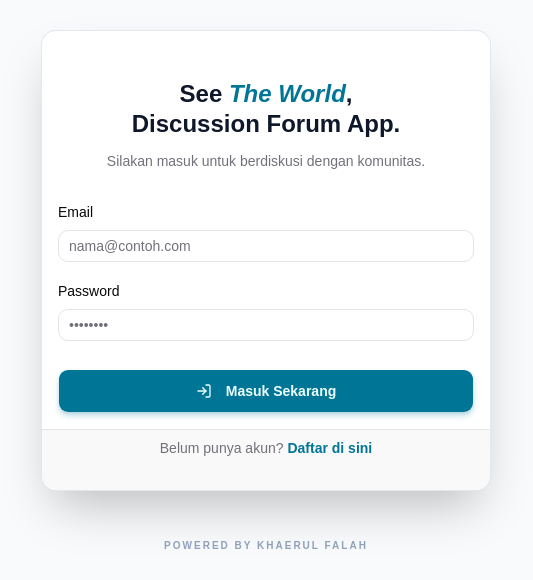
it: Login spec › should show validation error when email is empty
The image size is (533, 580).
In the password field with placeholder "••••••••": (266, 325) left=58, top=309, right=474, bottom=341, type "123123"
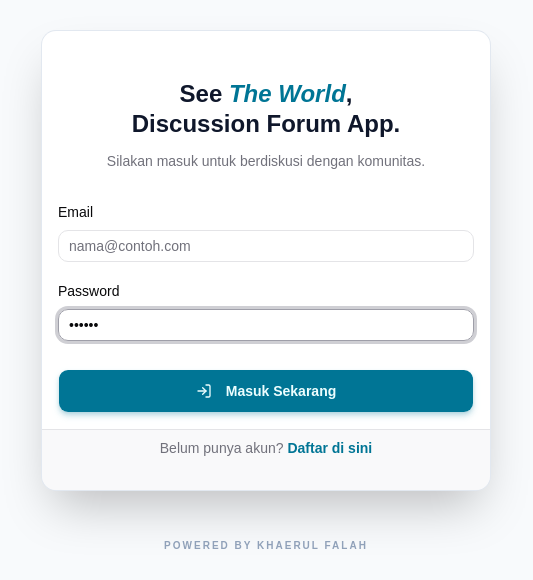
Click the button "Masuk Sekarang": (266, 391) left=58, top=369, right=474, bottom=413
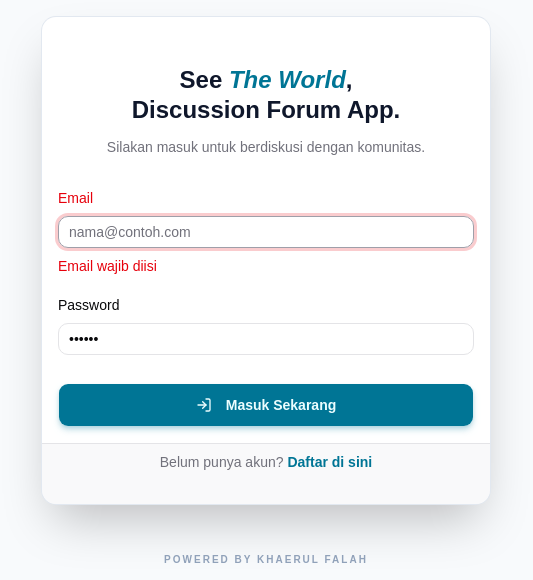
Expected: the text "Email wajib diisi" is shown, left=58, top=258, right=157, bottom=274
